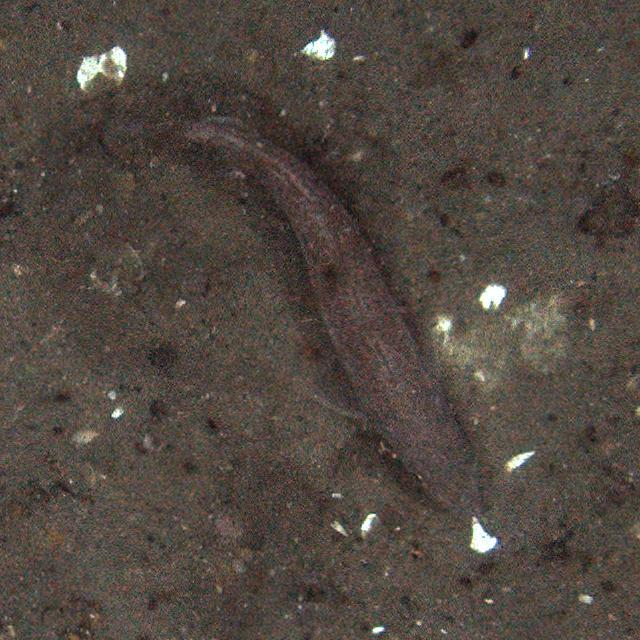roundfish: (132, 112, 487, 514)
